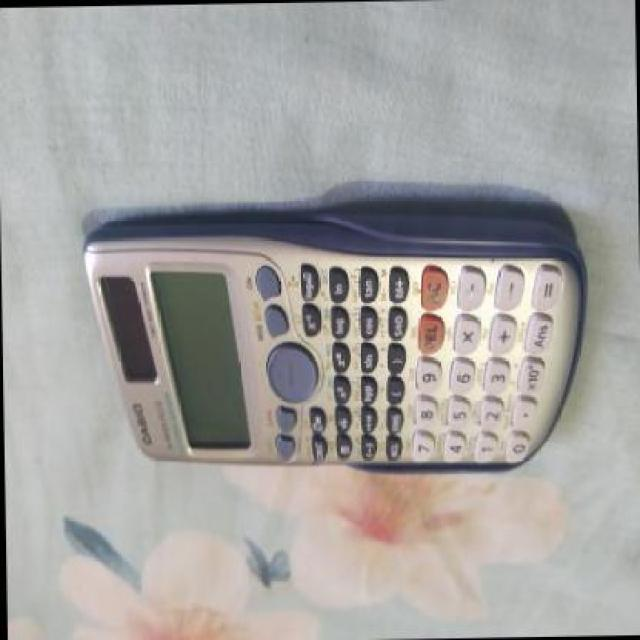Calculator: (73, 183, 599, 499)
